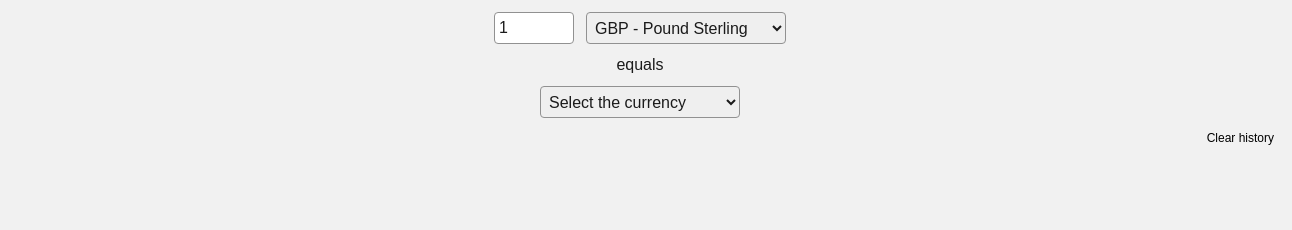
Converter › converts currency correctly when fromCurrency remains GBP and toCurrency is selected
In the number field: coordinates (534, 28) [494,12,574,44], type "0"
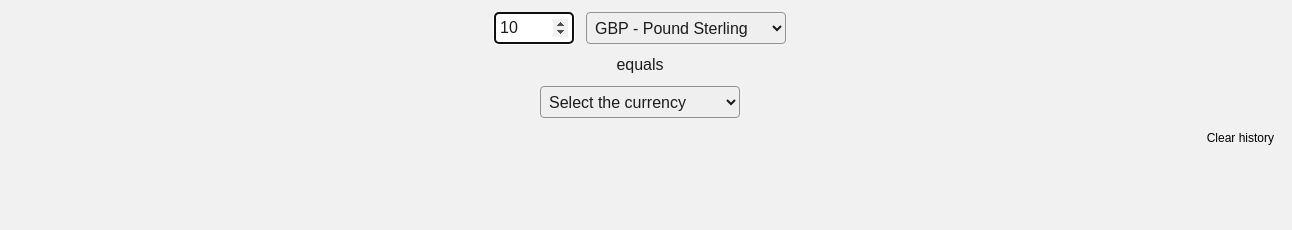
Select "USD - United States Dollar" in the 2nd dropdown: coordinates (640, 102) [540,86,740,118]
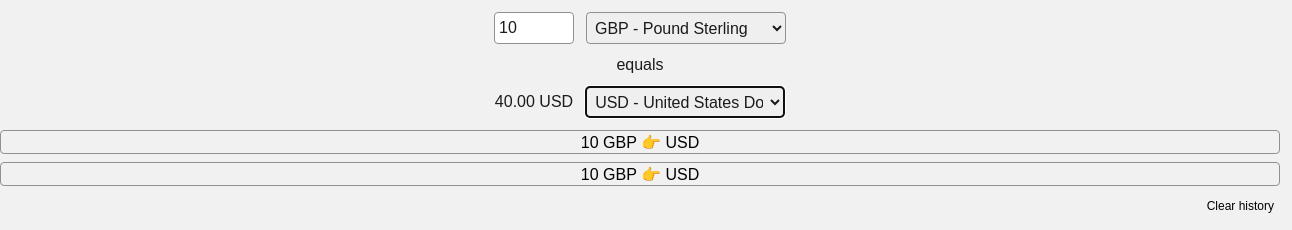
Now the text "40.00 USD" is shown, box [495,93,573,110]
